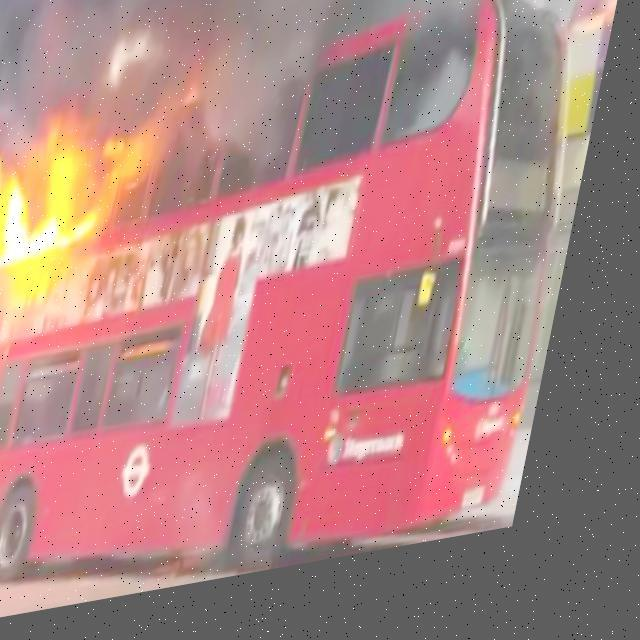Fire: (0, 114, 143, 266)
